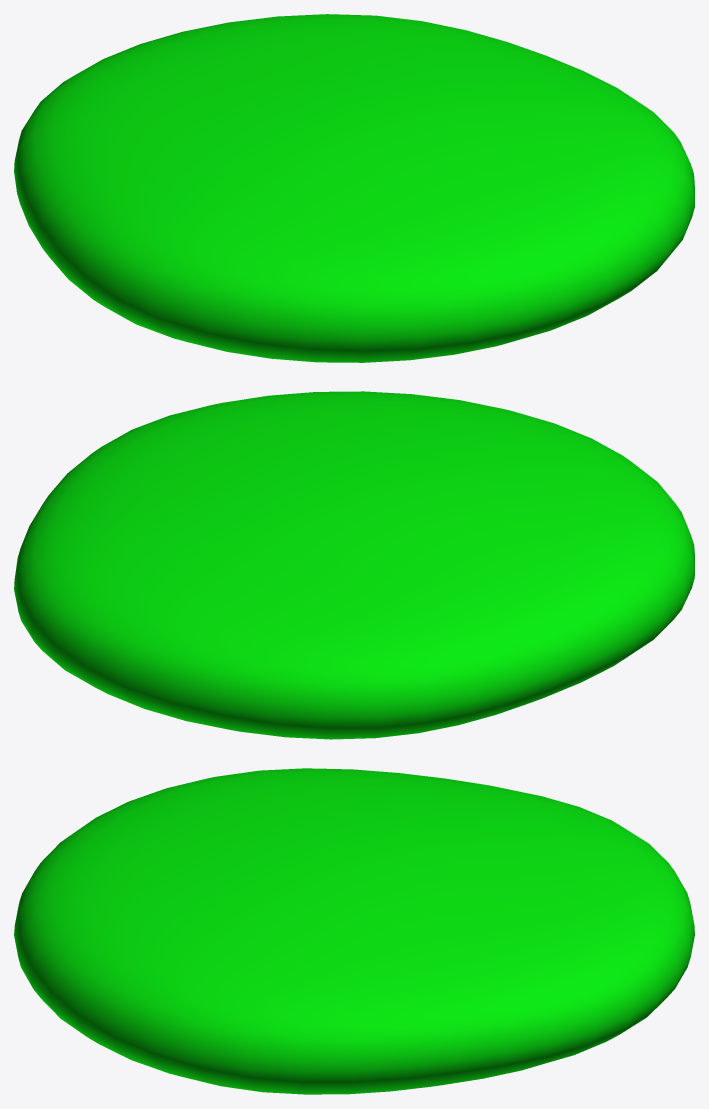
The model's file is Spider40.glb.
The picture shows the model from 3 angles, top to bottom: view 1: azimuth 30°, elevation 25°; view 2: azimuth 150°, elevation 25°; view 3: azimuth 270°, elevation 25°; orthographic projection. The views are drawn at different scales.
Parts seen in each view (by area): view 1: Butt; view 2: Butt; view 3: Butt.
Part boxes in pixels (box(x1,y1,x2,y2)): Butt: box(14, 14, 694, 362); Butt: box(14, 391, 694, 739); Butt: box(14, 768, 694, 1094).
Bounding box in the file's own units: 0.2459 × 0.0733 × 0.2583.
